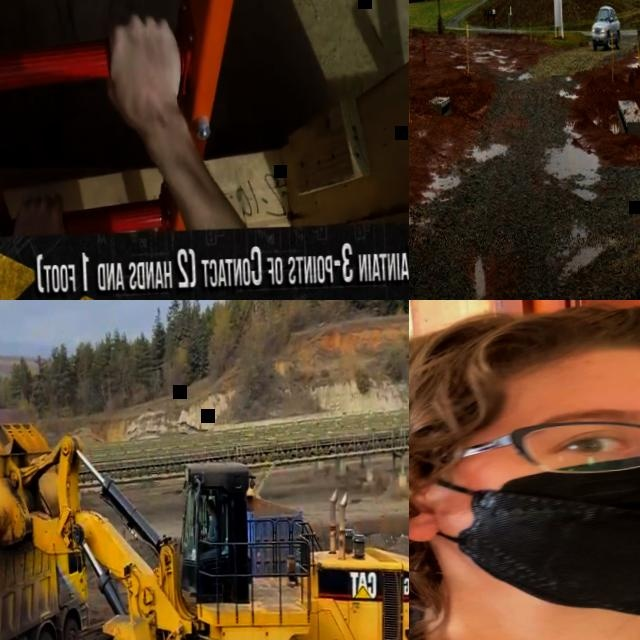Mask: (409, 445, 640, 623)
NO-Hardhat: (409, 300, 640, 409), (207, 497, 215, 508)
NO-Mask: (206, 509, 211, 516)
NO-Safety Vest: (206, 515, 217, 537)
Person: (409, 300, 640, 640), (103, 9, 246, 231), (198, 496, 218, 549)
machinery: (0, 383, 409, 640), (190, 467, 305, 585), (0, 500, 92, 640)
vehicle: (589, 3, 621, 49)
